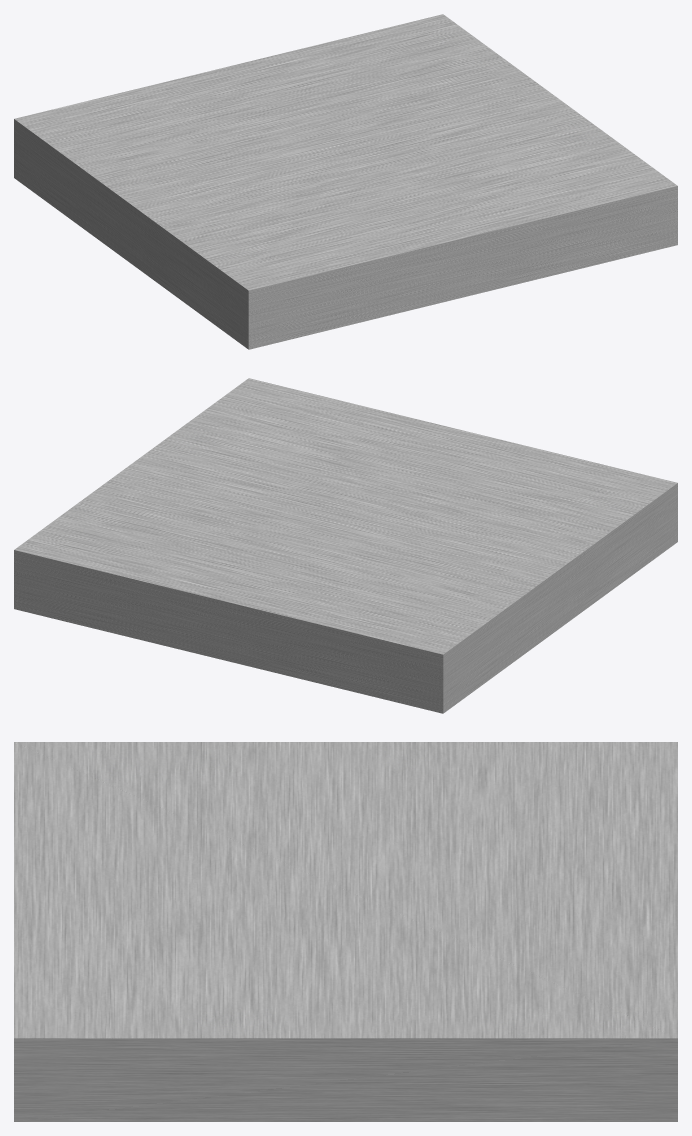
The model's file is Led lamp.FBX.
3 renders of one model, top to bottom at view 1: azimuth 30°, elevation 25°; view 2: azimuth 150°, elevation 25°; view 3: azimuth 270°, elevation 25°, orthographic. The views are drawn at different scales.
Visible parts, largest first — view 1: led lamp; view 2: led lamp; view 3: led lamp.
Part boxes in pixels (box(x1,y1,x2,y2)): led lamp: box(14, 14, 677, 349); led lamp: box(14, 378, 677, 713); led lamp: box(14, 742, 677, 1121).
Size of the model in its own units: 12.11 by 1.69 by 11.47.
2 materials, 1 textured.
